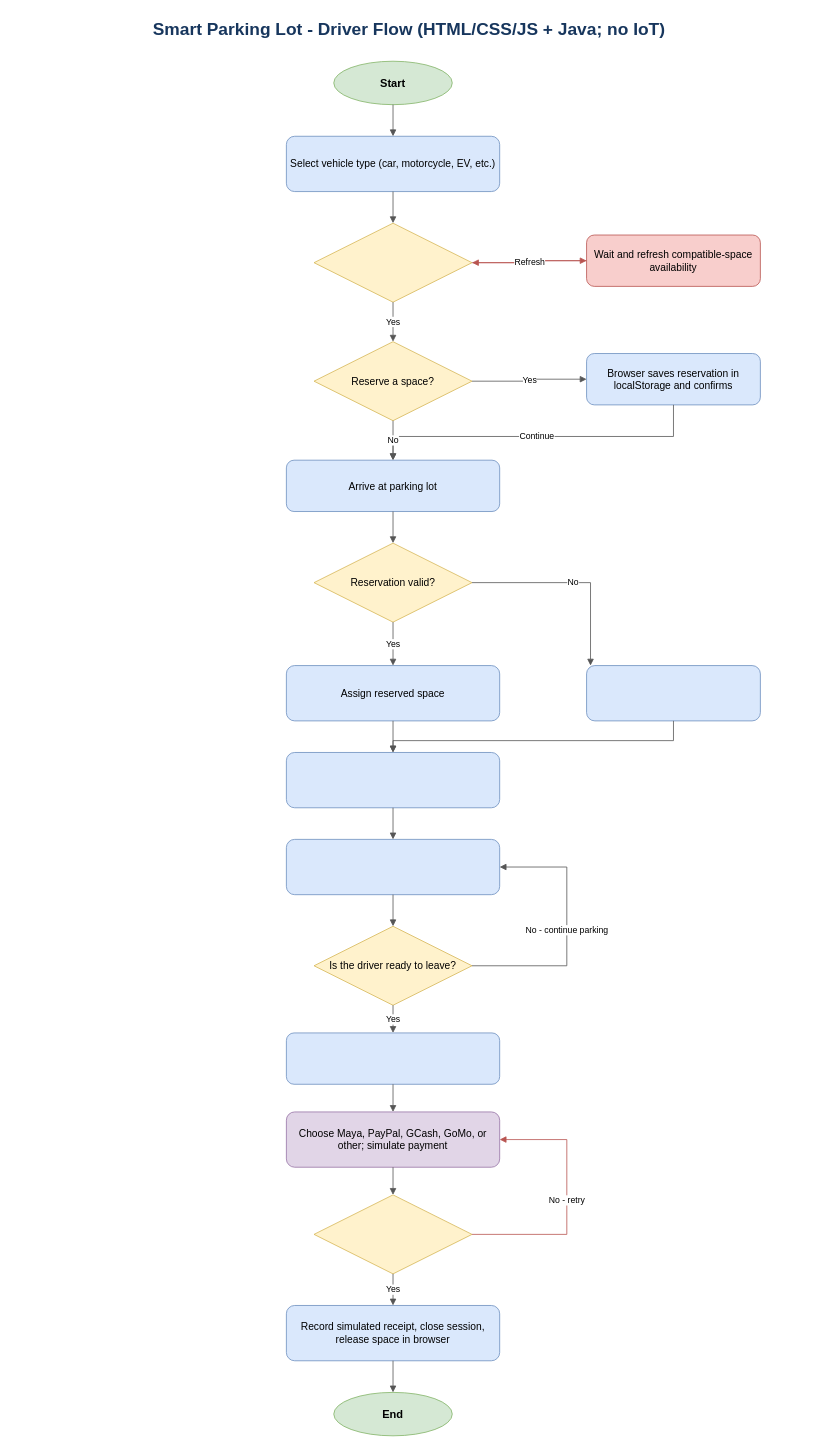
The diagram is 817 pixels wide and 1450 high, and some of its shapes have lost their labels. The shapes that lost their labels are listed below. From the top down, each one's box as (x1, y1, x2, y2) in pixels, then its label:
(313, 222, 472, 302): Is a compatible space available?
(586, 665, 760, 721): Assign an available space
(286, 752, 500, 808): Simulated check-in starts session; browser records it locally
(286, 839, 500, 895): Park vehicle; system marks space occupied
(286, 1032, 500, 1084): System calculates parking fee automatically
(313, 1194, 472, 1274): Payment successful?
